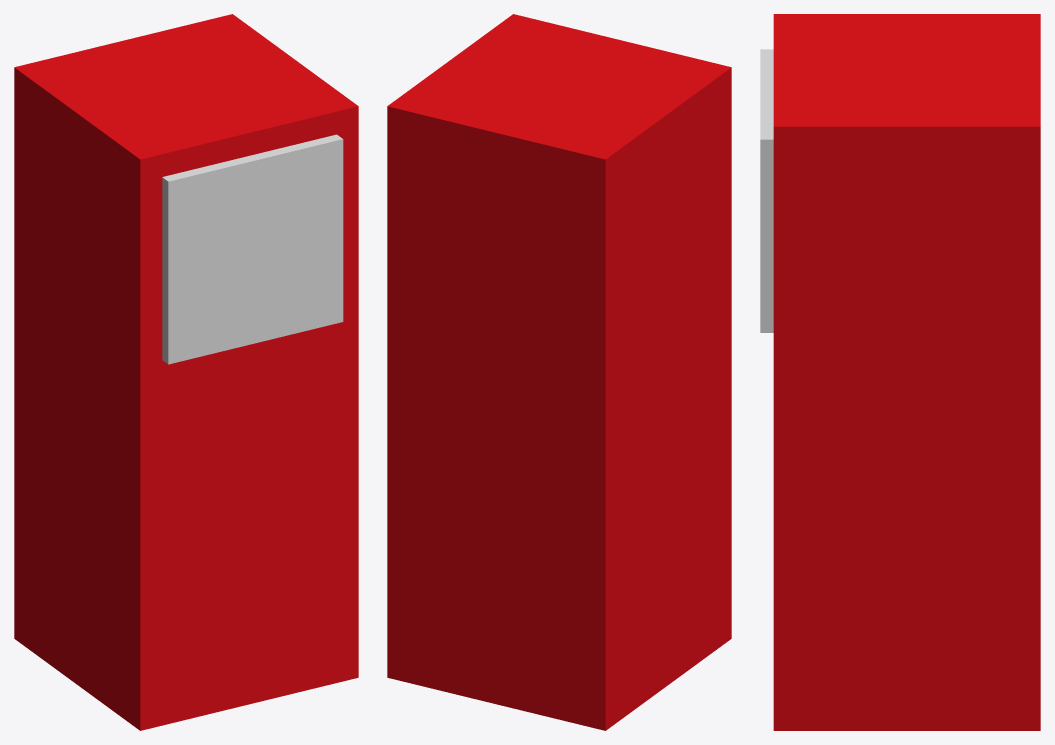
Rendered from player.fbx.
3 views of the same model, side by side, from view 1: azimuth 30°, elevation 25°; view 2: azimuth 150°, elevation 25°; view 3: azimuth 270°, elevation 25° (orthographic). The views are drawn at different scales.
Visible parts, largest first — view 1: Player; view 2: Player; view 3: Player.
Part boxes in pixels (box(x1,y1,x2,y2)): Player: box(14, 14, 358, 730); Player: box(387, 14, 731, 730); Player: box(760, 14, 1040, 730).
Bounding box in the file's own units: 100 × 250 × 105.
